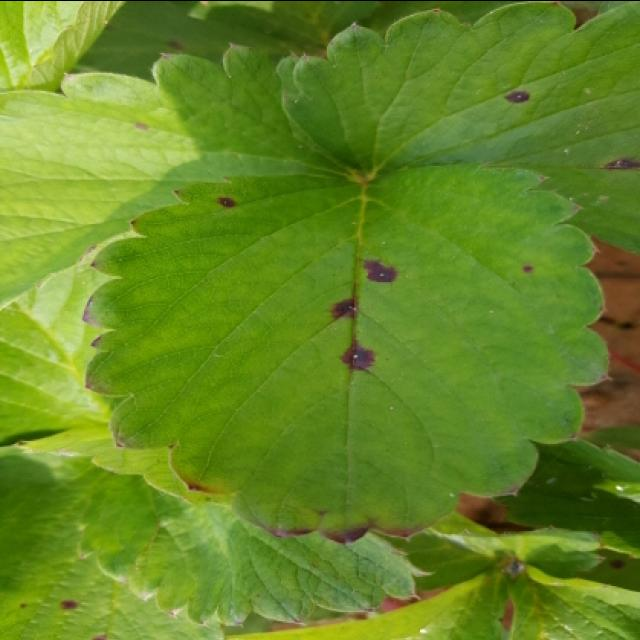Leaf Spot: (81, 163, 615, 545), (0, 42, 362, 313), (281, 0, 638, 255), (0, 455, 224, 638), (71, 0, 325, 80), (578, 548, 638, 591)
